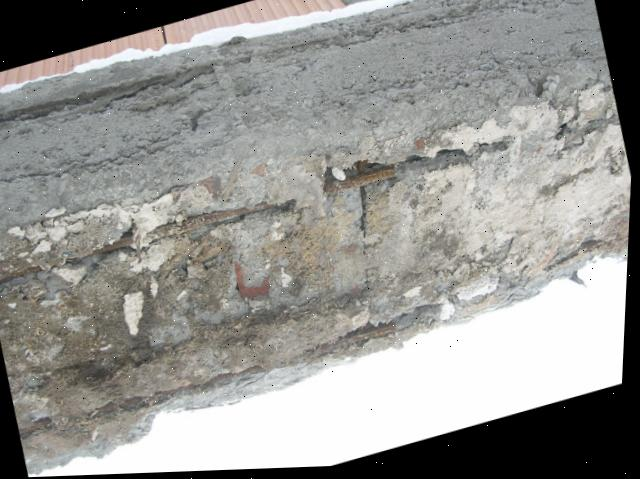spalling: (0, 0, 631, 474)
